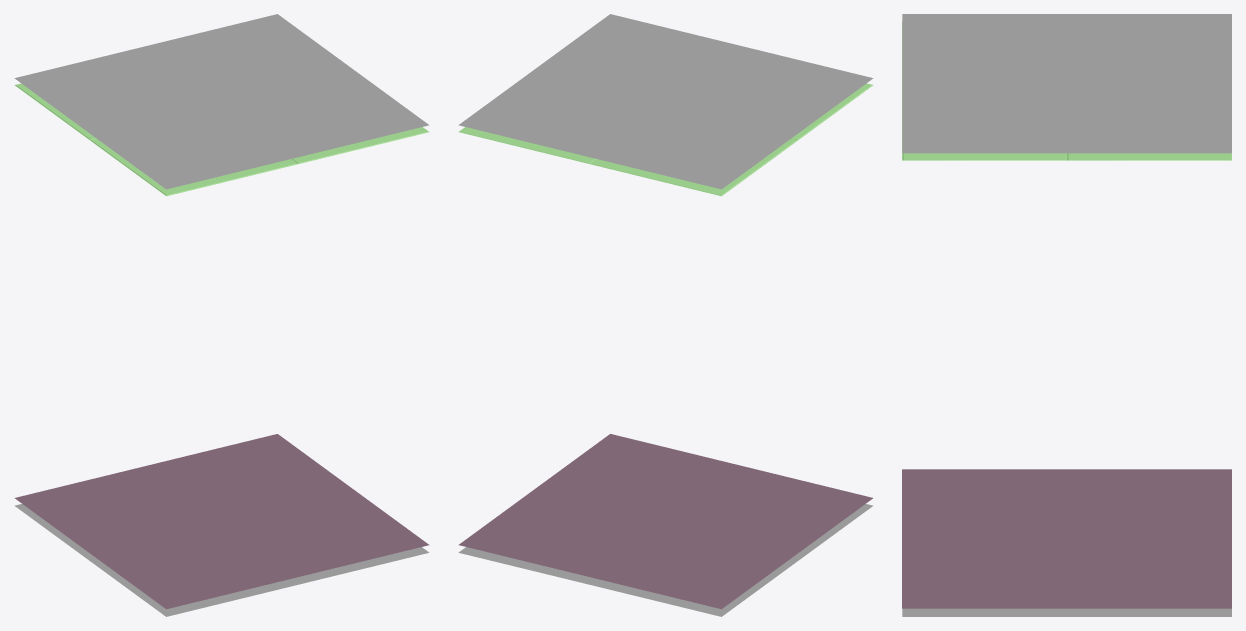
File: Room_2x2_no_walls_geo.fbx
The picture shows the model from 3 angles, left to right: view 1: azimuth 30°, elevation 25°; view 2: azimuth 150°, elevation 25°; view 3: azimuth 270°, elevation 25°; orthographic projection. The views are drawn at different scales.
Parts seen in each view (by area): view 1: Room_2x2_no_walls_geo; view 2: Room_2x2_no_walls_geo; view 3: Room_2x2_no_walls_geo.
Boxes of the visible parts, x1=… form: Room_2x2_no_walls_geo: x1=14, y1=14, x2=429, y2=616; Room_2x2_no_walls_geo: x1=458, y1=14, x2=873, y2=616; Room_2x2_no_walls_geo: x1=902, y1=14, x2=1231, y2=616.
Size of the model in its own units: 2 by 3.1 by 2.
